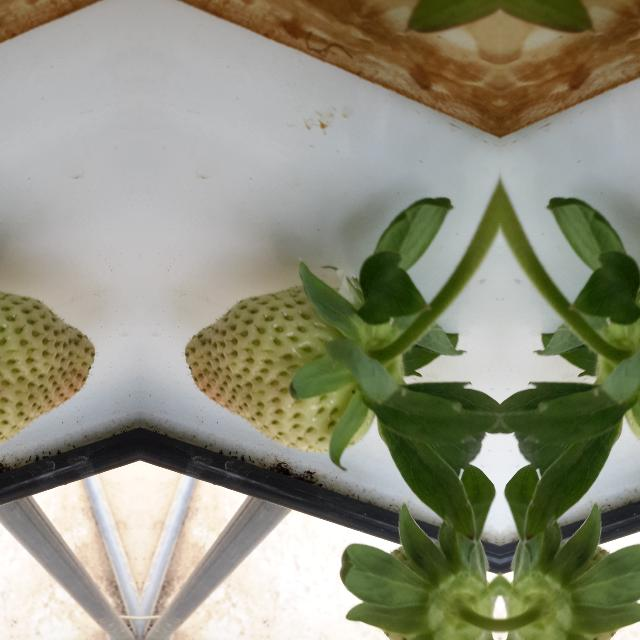Health_50: (184, 285, 376, 451), (0, 285, 96, 451)
